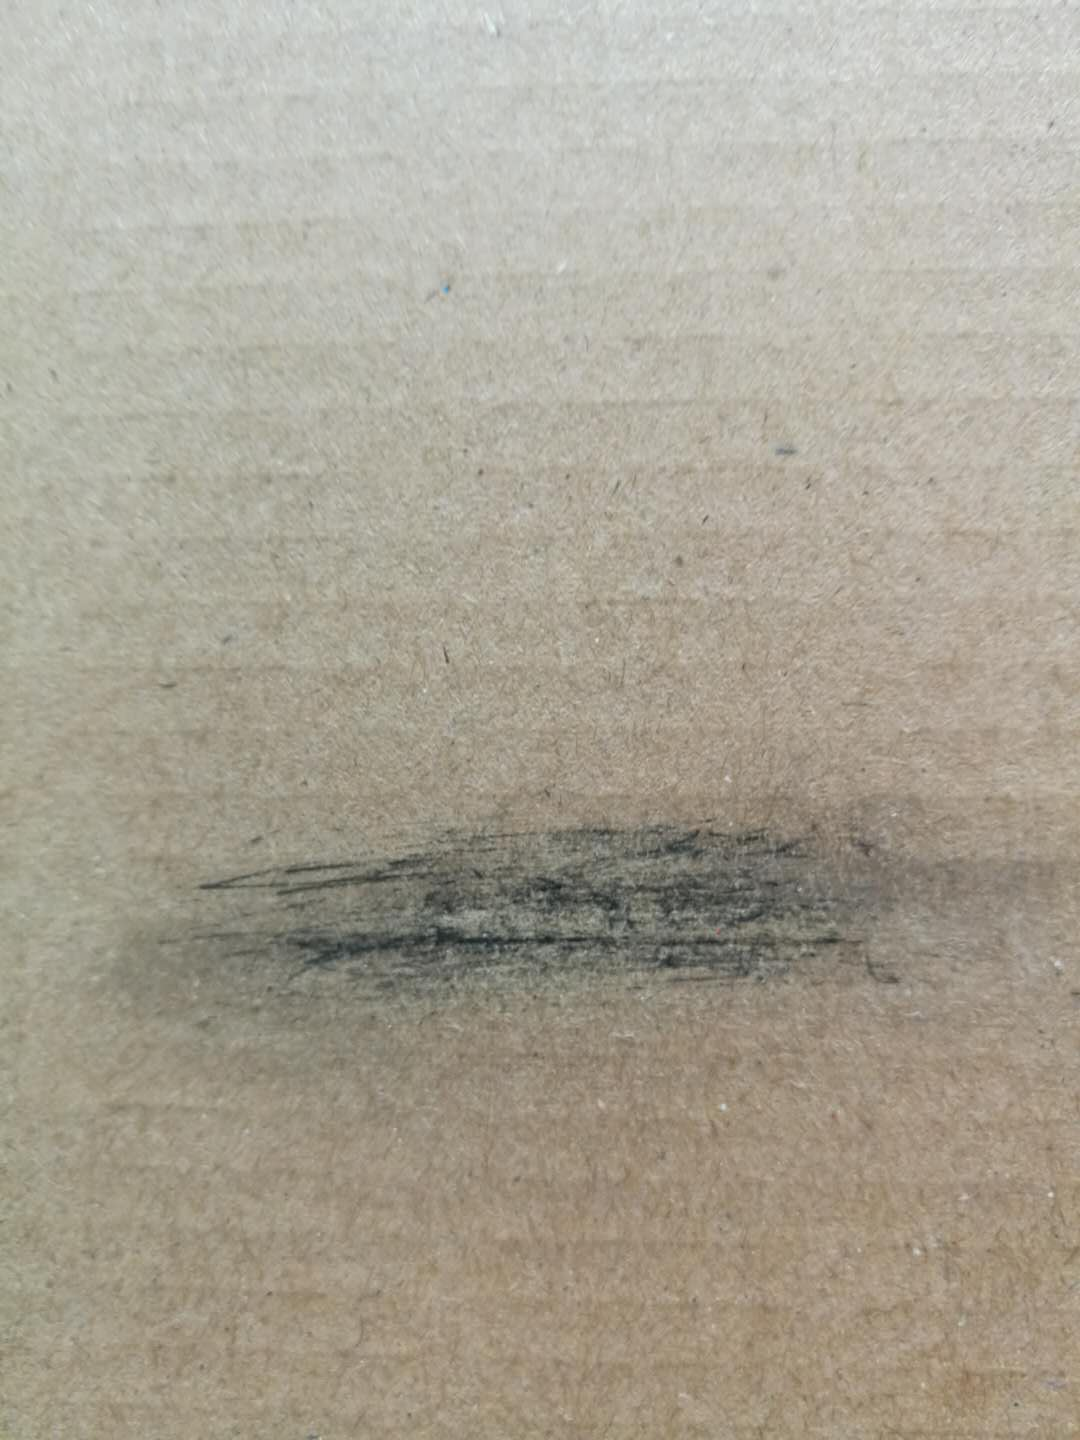defect: (65, 778, 1005, 1059)
